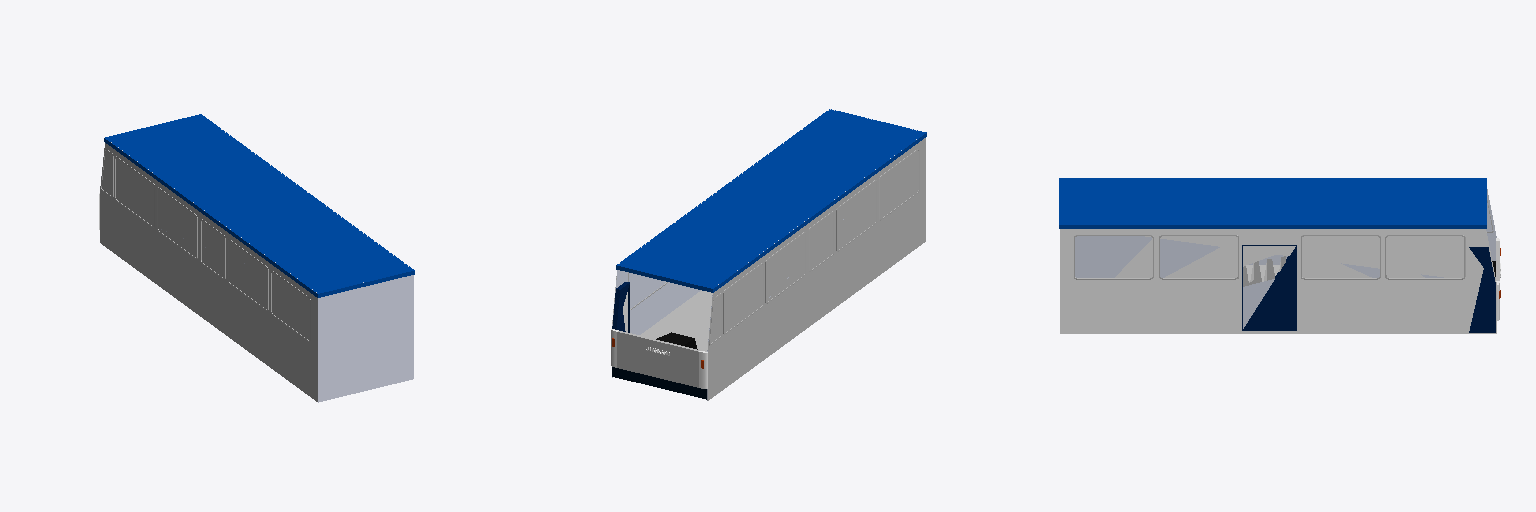
The model's file is njc6970.obj.
3 renders of one model, left to right at view 1: azimuth 30°, elevation 25°; view 2: azimuth 150°, elevation 25°; view 3: azimuth 270°, elevation 25°, orthographic.
Parts seen in each view (by area): view 1: left_wall_Cube.029, top_Cube.005, Cube_Cube.041; view 2: left_wall_Cube.029, top_Cube.005, front_engin_Cube.047, right_wall.001_Cube.007, floor_Cube.015, front_lower_Cube.004, front_door_frame_Cube.006; view 3: right_wall.001_Cube.007, top_Cube.005, backdoorframe_Cube.019, front_door_frame_Cube.006.
Boxes of the visible parts, <box> form: left_wall_Cube.029: <box>100,142,317,401</box>; top_Cube.005: <box>104,114,414,297</box>; Cube_Cube.041: <box>318,275,413,402</box>; left_wall_Cube.029: <box>707,138,925,400</box>; top_Cube.005: <box>616,109,926,292</box>; front_engin_Cube.047: <box>617,331,700,387</box>; right_wall.001_Cube.007: <box>612,110,828,377</box>; floor_Cube.015: <box>640,290,712,351</box>; front_lower_Cube.004: <box>612,367,706,399</box>; front_door_frame_Cube.006: <box>612,282,629,332</box>; right_wall.001_Cube.007: <box>1060,229,1496,333</box>; top_Cube.005: <box>1059,178,1486,228</box>; backdoorframe_Cube.019: <box>1242,245,1296,330</box>; front_door_frame_Cube.006: <box>1469,247,1495,332</box>.
Bounding box in the file's own units: 2.52 × 2.7 × 9.91.